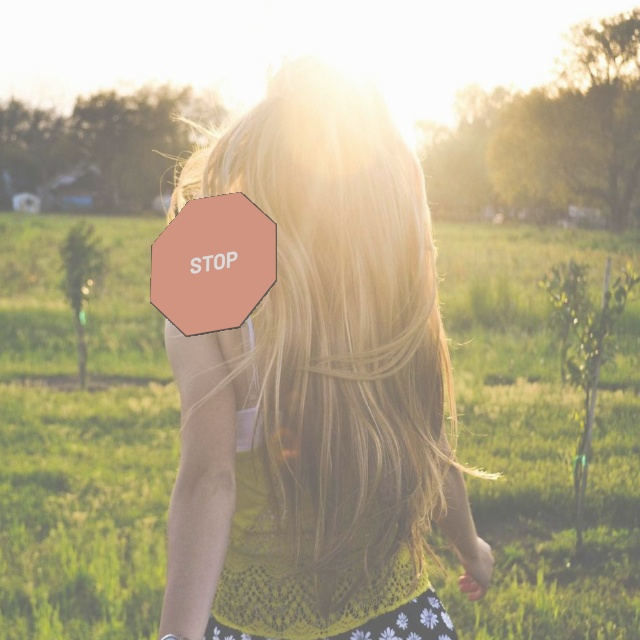STOP: (149, 191, 277, 337)
